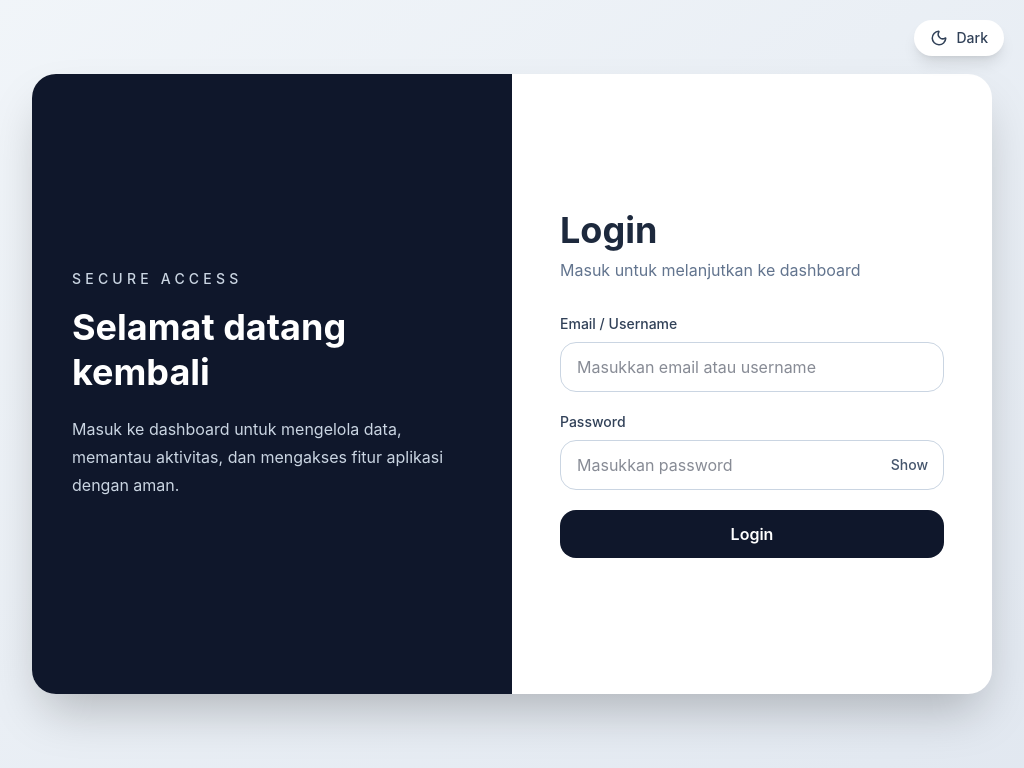
Login Page › menampilkan error jika password kurang dari 6 karakter
Type "heru@gmail.com" into the field with placeholder "Masukkan email atau username".
click(752, 367); type("heru@gmail.com")  # box top-left (560, 342), bottom-right (944, 392)
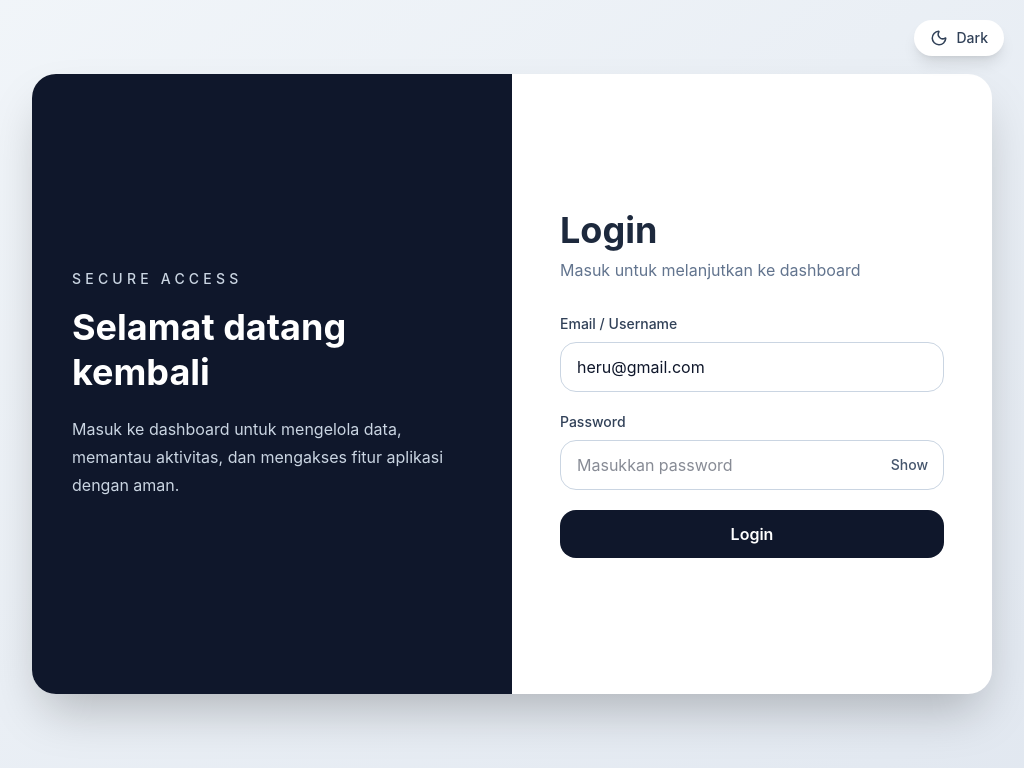
Type "123" into the password field with placeholder "Masukkan password".
click(752, 465); type("123")  # box top-left (560, 440), bottom-right (944, 490)
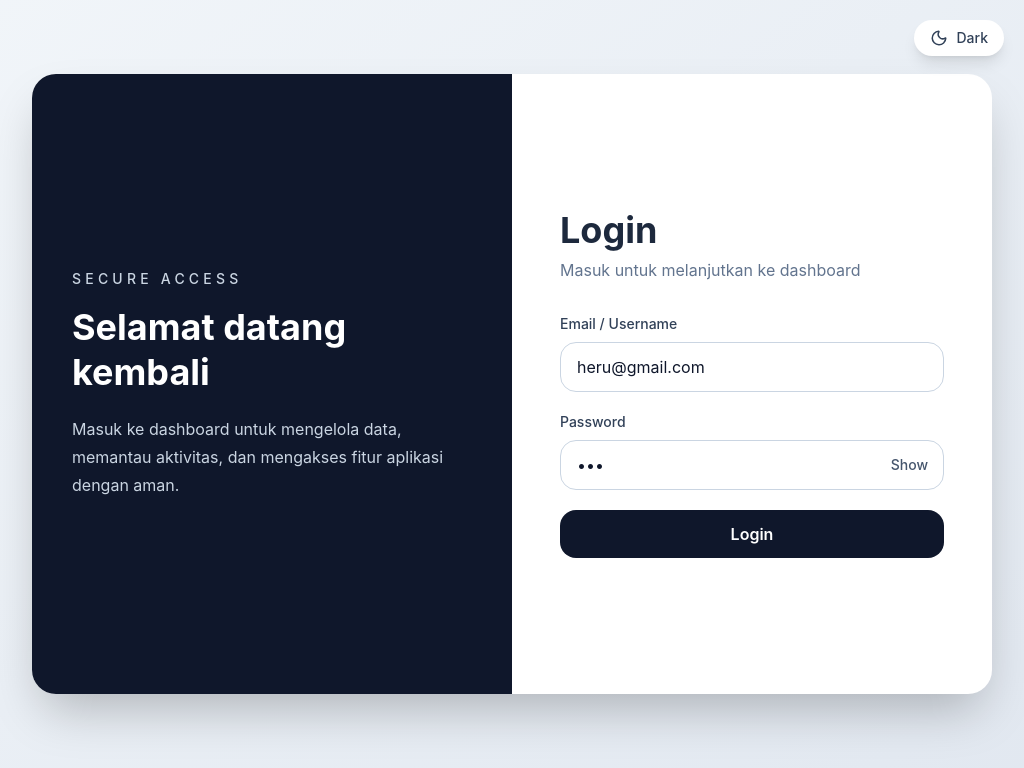
Click the button "Login".
click(752, 534)  # box top-left (560, 510), bottom-right (944, 558)
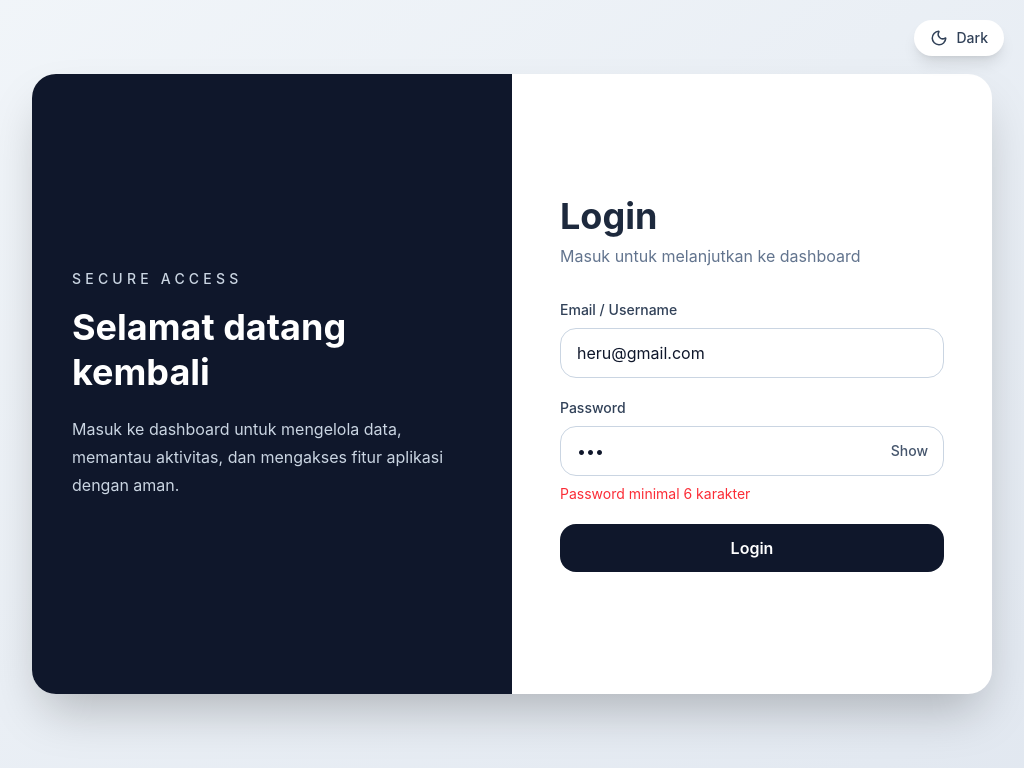
Expected: the text "Password minimal 6 karakter" is shown, top-left (560, 485), bottom-right (750, 502)
